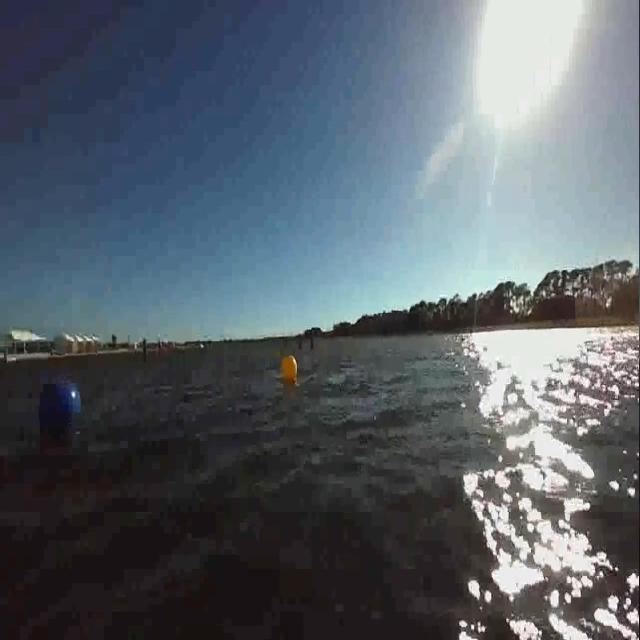blue-buoy: (38, 378, 81, 436)
yellow-buoy: (281, 354, 298, 382)
